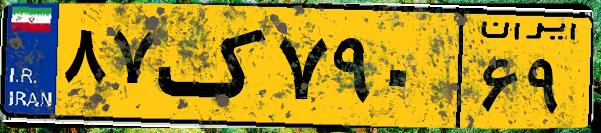0: (385, 28, 445, 110)
6: (475, 38, 525, 113)
7: (270, 28, 330, 110), (110, 28, 158, 98)
8: (57, 26, 110, 100)
9: (330, 28, 385, 110), (525, 38, 570, 115)
ک: (158, 12, 270, 120)
